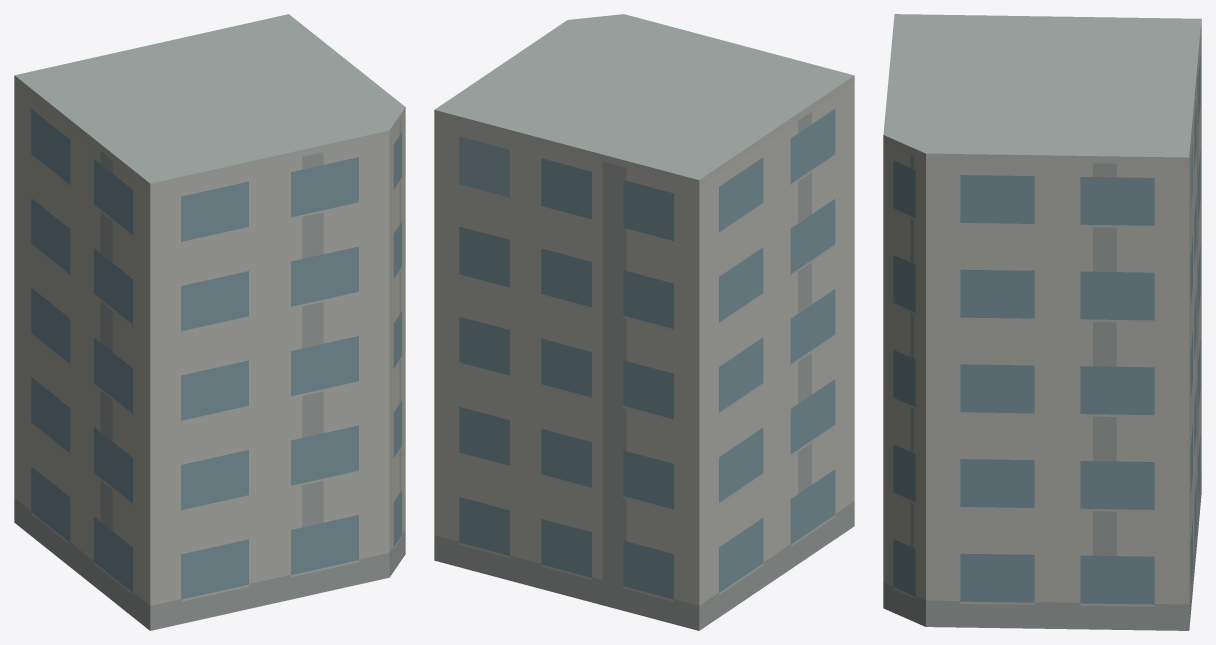
Rendered from survey-upis-32926911.glb.
3 renders of one model, left to right at view 1: azimuth 30°, elevation 25°; view 2: azimuth 150°, elevation 25°; view 3: azimuth 270°, elevation 25°, orthographic. The views are drawn at different scales.
Parts seen in each view (by area): view 1: survey-upis-32926911.tmp; view 2: survey-upis-32926911.tmp; view 3: survey-upis-32926911.tmp.
Boxes of the visible parts, box(x1,y1,x2,y2) form: survey-upis-32926911.tmp: box(14, 14, 405, 630); survey-upis-32926911.tmp: box(434, 14, 854, 630); survey-upis-32926911.tmp: box(883, 14, 1201, 630).
Size of the model in its own units: 10.15 by 15.6 by 9.51.
